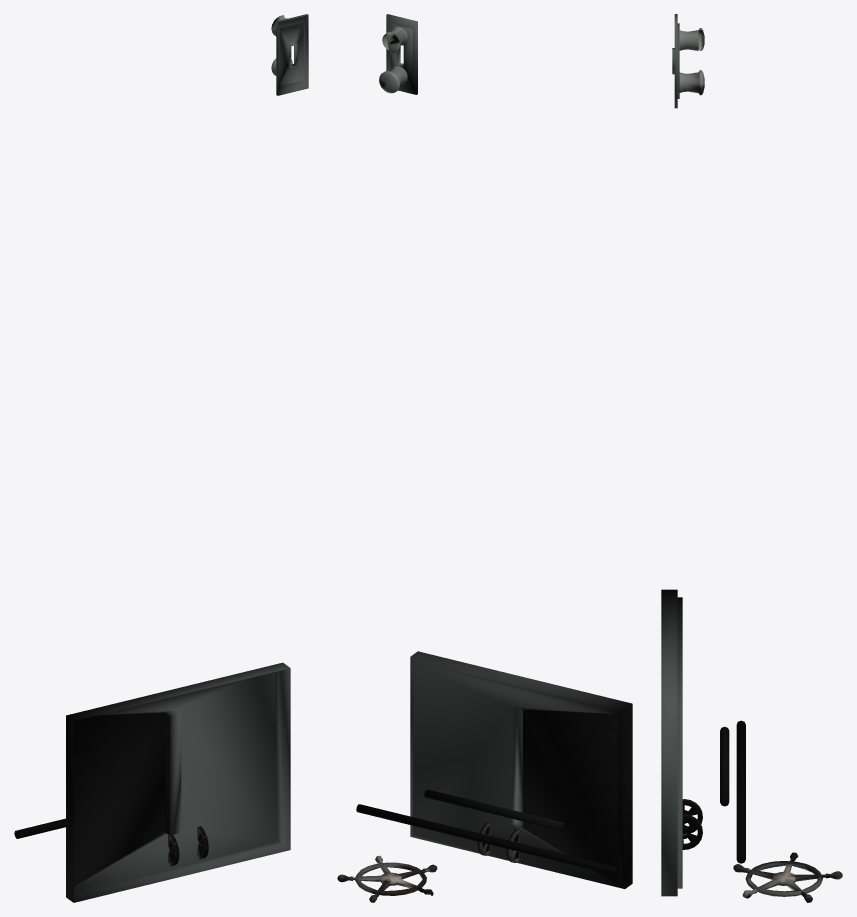
The model's file is Boat.glb.
3 renders of one model, left to right at view 1: azimuth 30°, elevation 25°; view 2: azimuth 150°, elevation 25°; view 3: azimuth 270°, elevation 25°, orthographic. The views are drawn at different scales.
Parts seen in each view (by area): view 1: unused_boat_dragonjan.026, unused_boat_dragonjan.001; view 2: unused_boat_dragonjan.026; view 3: unused_boat_dragonjan.026, unused_boat_dragonjan.001.
Part boxes in pixels (left/top/right/bottom): unused_boat_dragonjan.026: left=14, top=14, right=308, bottom=902; unused_boat_dragonjan.001: left=168, top=826, right=208, bottom=866; unused_boat_dragonjan.026: left=337, top=14, right=632, bottom=902; unused_boat_dragonjan.026: left=661, top=14, right=842, bottom=902; unused_boat_dragonjan.001: left=682, top=799, right=702, bottom=849.
Bounding box in the file's own units: 29.7 × 89.9 × 16.8.
Materials: 2 (1 with a texture image).
